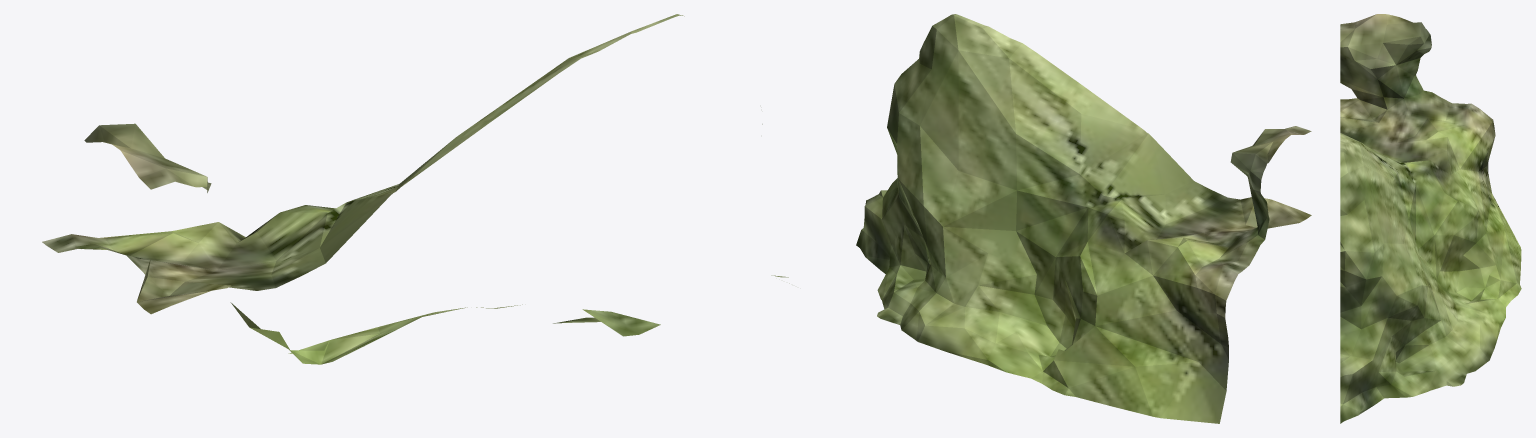
The picture shows the model from 3 angles, left to right: view 1: azimuth 30°, elevation 25°; view 2: azimuth 150°, elevation 25°; view 3: azimuth 270°, elevation 25°; orthographic projection. The views are drawn at different scales.
Size of the model in its own units: 13.98 by 7.49 by 5.39.
Materials: 1 (1 with a texture image).
